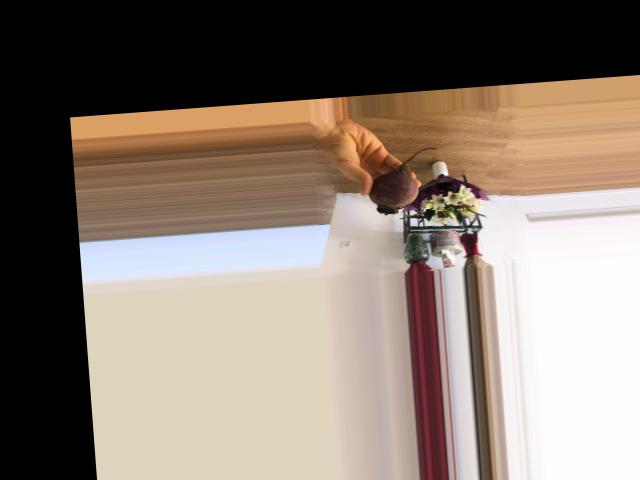beet: (366, 147, 443, 215)
